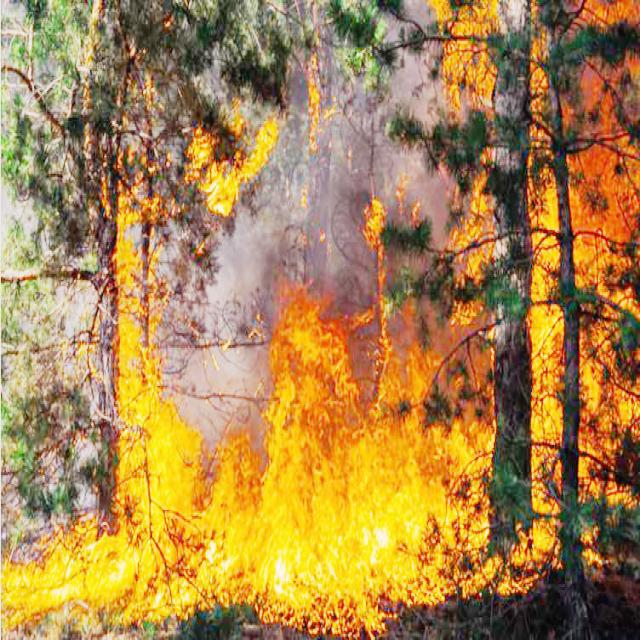api: (183, 431, 466, 634), (121, 231, 180, 621), (532, 189, 572, 585), (1, 524, 117, 635), (269, 303, 354, 452), (198, 121, 274, 218), (448, 177, 489, 323), (467, 410, 500, 589), (436, 4, 495, 104), (375, 345, 440, 421), (309, 68, 323, 169), (364, 195, 385, 256)
